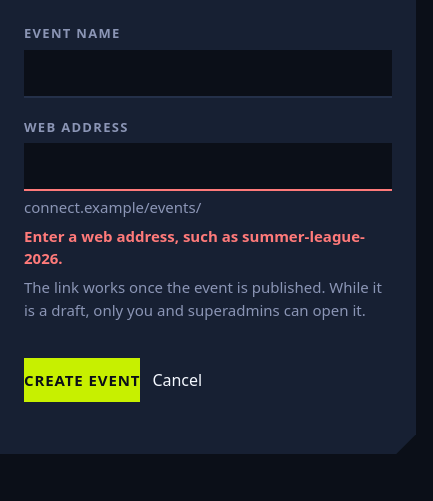
Test case: New event › says when a typed address is taken and offers the first free one
In the field labelled "Event name": (208, 74) [24,50,392,98], type "Harbour"
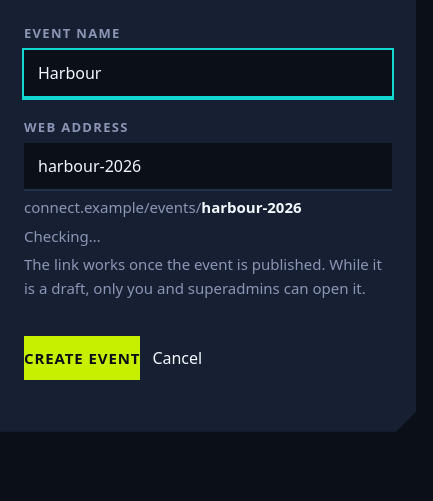
Replace the text in the field labelled "Web address" with "finals": (208, 167) [24,143,392,191]
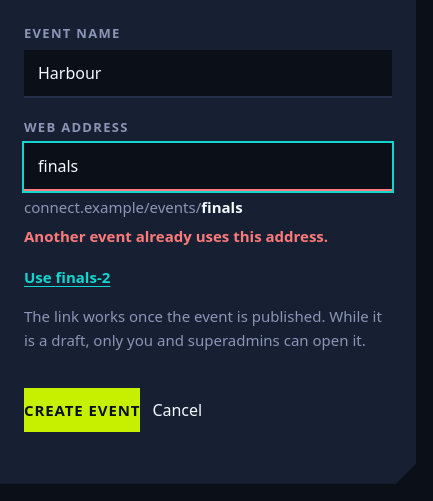
Result: the text "Another event already uses this address." is shown at [24,225,328,247]
Click the button "Use finals-2": click(67, 277) [24,255,110,299]
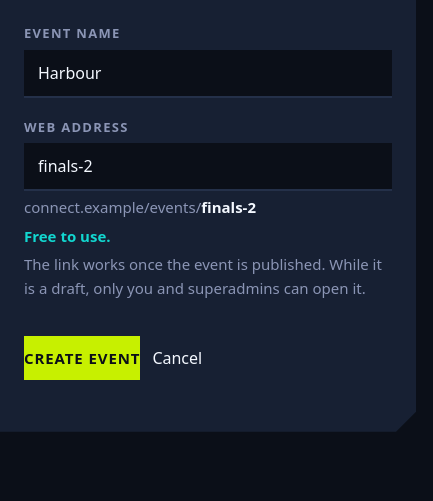
Result: the field labelled "Web address" holds "finals-2" at [24,143,392,191]
Result: the text "Free to use." is shown at [24,225,110,247]
